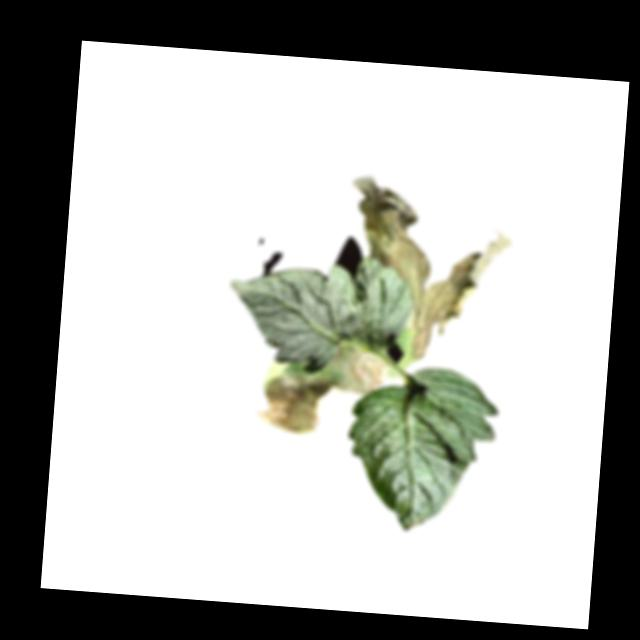Late_blight: (336, 173, 517, 370), (253, 337, 391, 441)
healthy: (341, 361, 502, 538), (222, 247, 415, 383)
